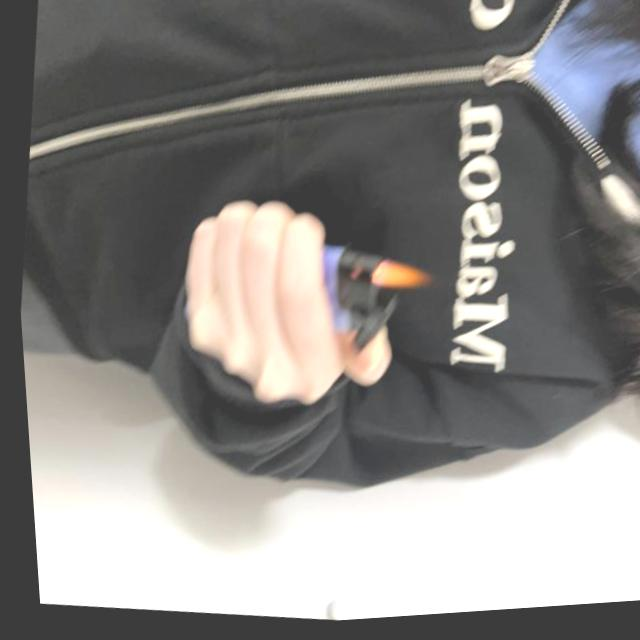Fire: (364, 259, 430, 300)
